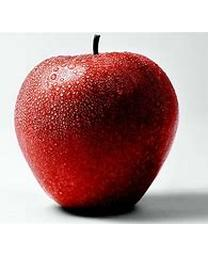apple: (12, 36, 179, 215)
